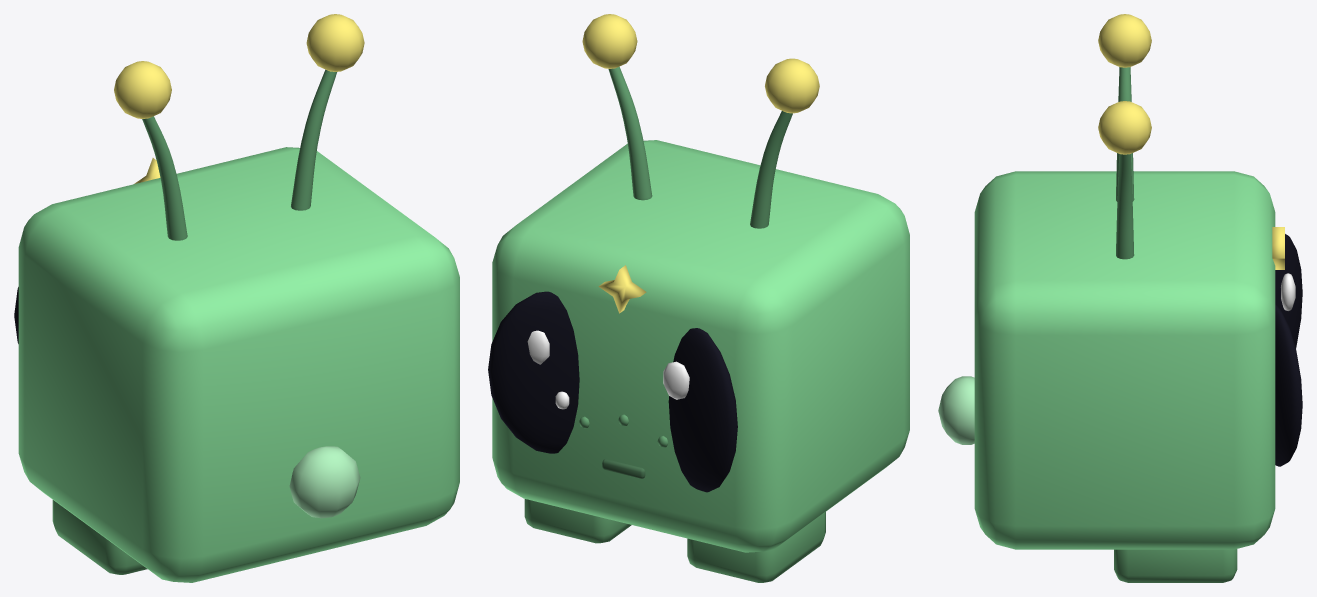
The model's file is pet_alien.fbx.
The picture shows the model from 3 angles, left to right: view 1: azimuth 30°, elevation 25°; view 2: azimuth 150°, elevation 25°; view 3: azimuth 270°, elevation 25°; orthographic projection. The views are drawn at different scales.
Visible parts, largest first — view 1: pet_alien; view 2: pet_alien; view 3: pet_alien.
Boxes of the visible parts, x1,y1,x2,y2 form: pet_alien: [14, 14, 459, 582]; pet_alien: [488, 14, 909, 582]; pet_alien: [938, 14, 1302, 582].
Bounding box in the file's own units: 2.1 × 3.27 × 2.3.
Materials: 1 (1 with a texture image).
